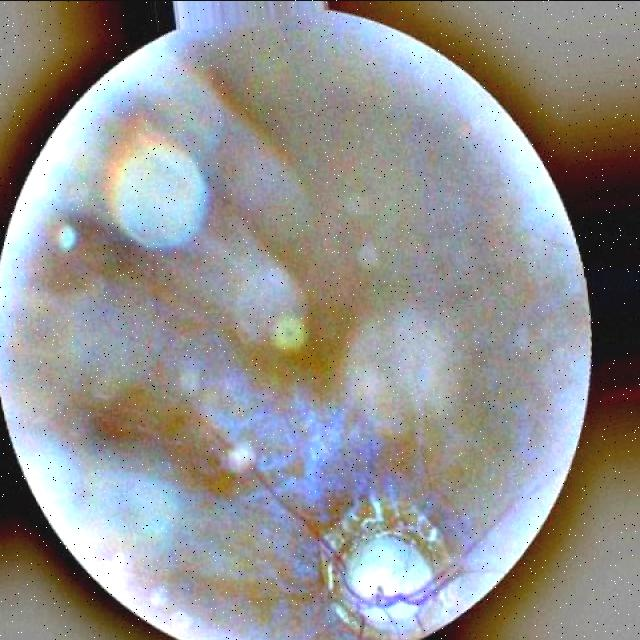Macula: (273, 308, 311, 358)
Nerves: (270, 486, 359, 597), (453, 500, 515, 565), (369, 575, 445, 607), (440, 568, 449, 575)
Optic Disk: (349, 535, 433, 625)
